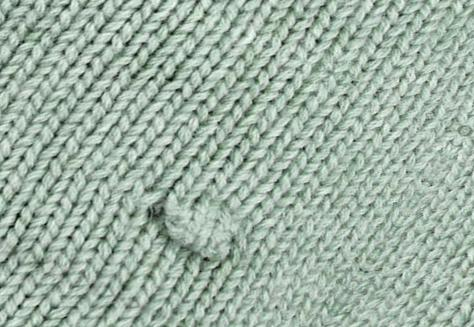knot: (143, 182, 241, 265)
